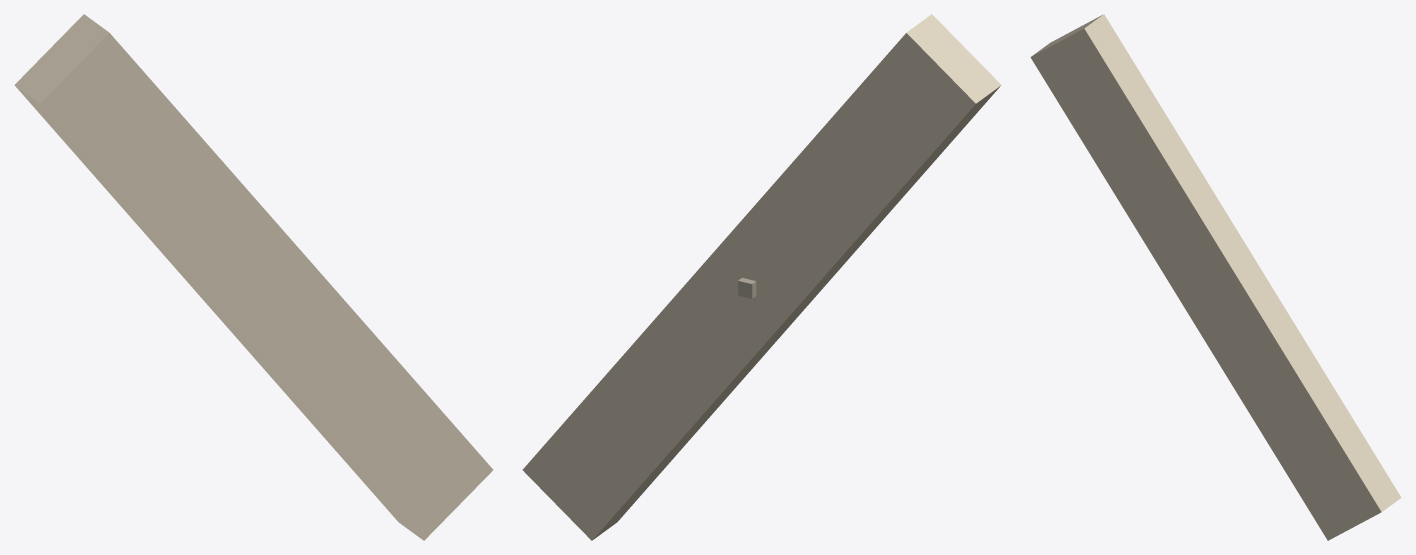
Rendered from historic-palestine-09_28_3510_3222.glb.
3 renders of one model, left to right at view 1: azimuth 30°, elevation 25°; view 2: azimuth 150°, elevation 25°; view 3: azimuth 330°, elevation 25°, orthographic. The views are drawn at different scales.
Visible parts, largest first — view 1: Building_; view 2: Building_; view 3: Building_.
Boxes of the visible parts, x1=… form: Building_: x1=14, y1=14, x2=493, y2=540; Building_: x1=522, y1=14, x2=1001, y2=540; Building_: x1=1030, y1=14, x2=1401, y2=540.
Size of the model in its own units: 76.74 by 94.56 by 8.7.
